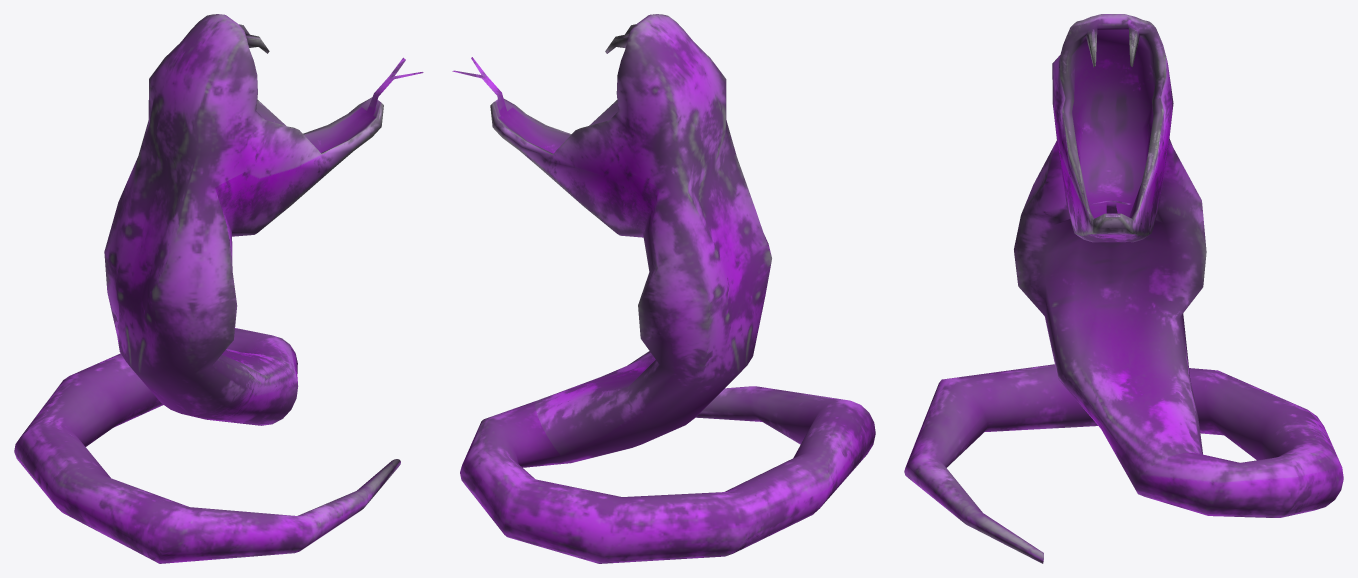
Rendered from diamentowy_waz2_normals_plus.glb.
3 renders of one model, left to right at view 1: azimuth 30°, elevation 25°; view 2: azimuth 150°, elevation 25°; view 3: azimuth 270°, elevation 25°, orthographic. The views are drawn at different scales.
Visible parts, largest first — view 1: Waz Diamentowy; view 2: Waz Diamentowy; view 3: Waz Diamentowy.
Part boxes in pixels (box(x1,y1,x2,y2)): Waz Diamentowy: box(14, 14, 423, 563); Waz Diamentowy: box(452, 14, 875, 563); Waz Diamentowy: box(904, 14, 1343, 563).
Size of the model in its own units: 0.9788 by 1.2 by 0.9823.
1 material, 1 textured.
